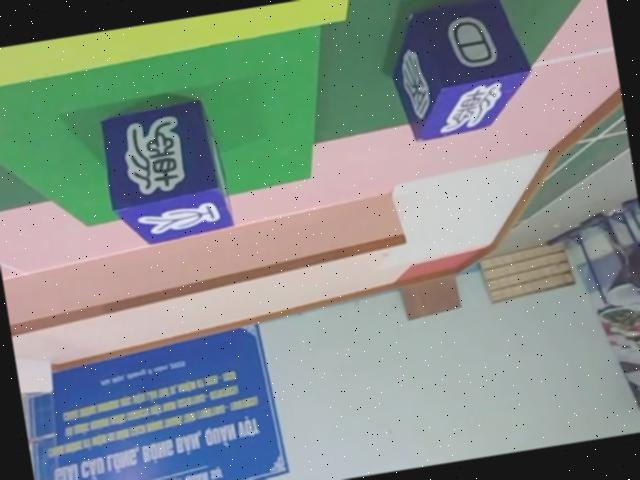R2 Fake Blue: (382, 0, 539, 143), (96, 96, 238, 250)
